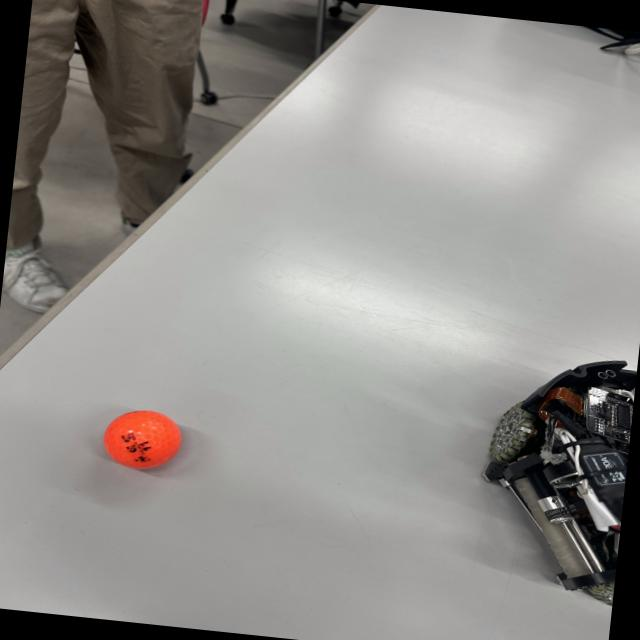ball: (92, 398, 195, 479)
